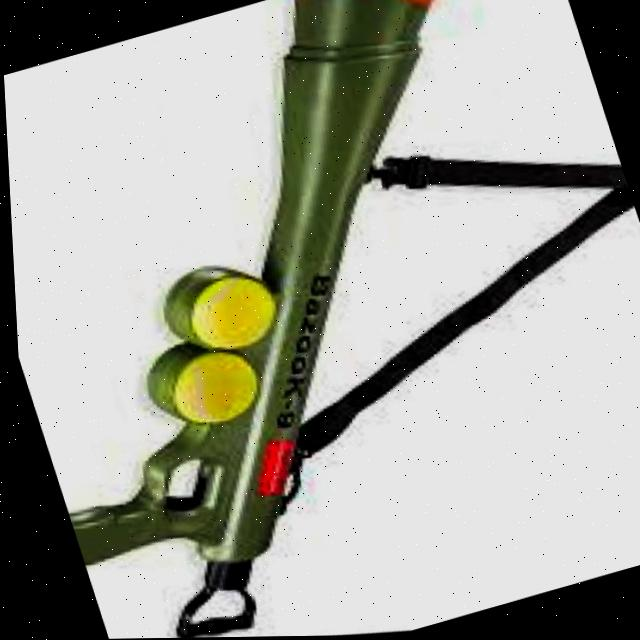rocket: (0, 0, 626, 640)
